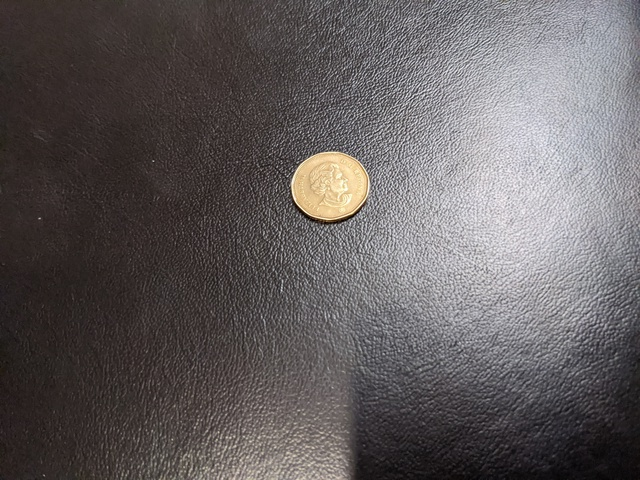loonie: (282, 147, 379, 228)
